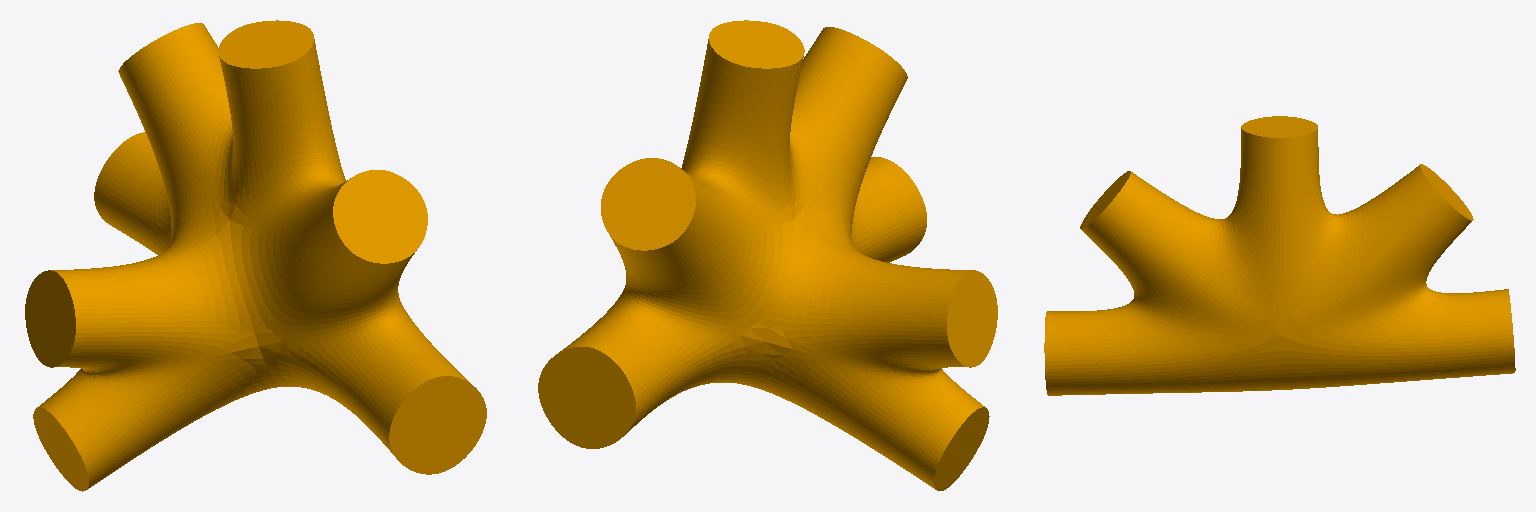
The robot description file, URDF, robot "object":
<robot name="object">
  <link name="object">
    <visual>
      <origin xyz="0 0 0"/>
      <geometry>
        <mesh filename="visual.obj" scale="1 1 1"/>
      </geometry>
    </visual>
    <collision>
      <origin xyz="0 0 0"/>
      <geometry>
        <mesh filename="visual.obj" scale="1 1 1"/>
      </geometry>
    </collision>
    <inertial>
      <mass value="0.05"/>
      <inertia ixx="5.5685457809000094e-05" iyy="3.218572525407831e-05" izz="5.3267339989666625e-05" ixy="2.5751300830741154e-07" ixz="-4.790130163825267e-06" iyz="-1.3162574670639565e-06"/>
    </inertial>
  </link>
</robot>

--- Facts derived from the render (not from the file) ---
The picture shows the robot from 3 angles, left to right: view 1: azimuth 30°, elevation 25°; view 2: azimuth 150°, elevation 25°; view 3: azimuth 270°, elevation 25°; orthographic projection.
Model object with 1 links and 0 joints (none), rooted at object, posed all joints at 0.
Links seen in each view (by area): view 1: object; view 2: object; view 3: object.
Boxes of the visible links, left/top/right/bottom form: object: left=25, top=20, right=486, bottom=491; object: left=538, top=20, right=997, bottom=490; object: left=1044, top=116, right=1515, bottom=395.
Size in the robot's own frame: 0.0806 by 0.1361 by 0.1008 metres.
Meshes: 1 distinct files referenced, 1 mesh visuals loaded (1 OBJ).
